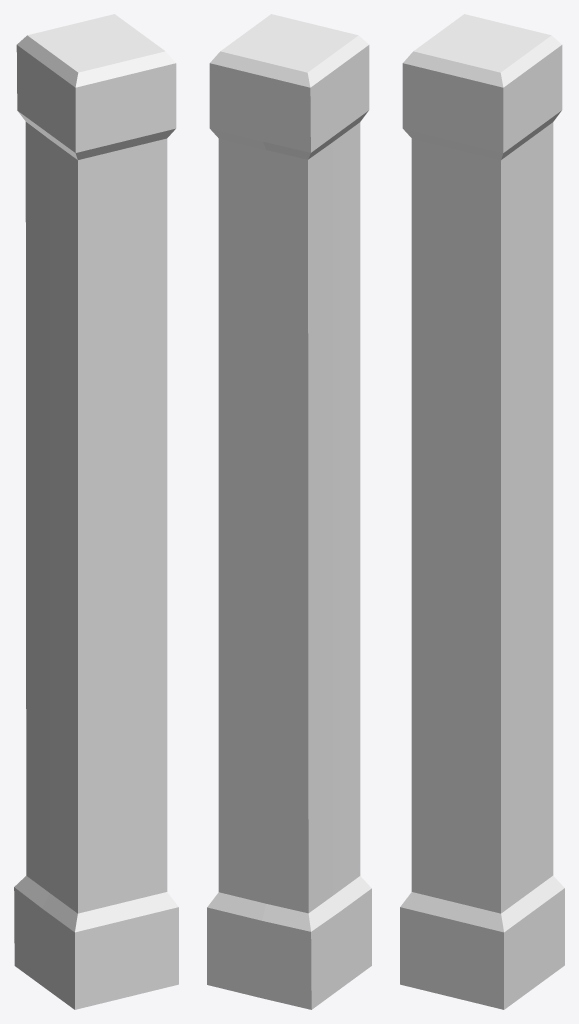
Rendered from g_o_BedroomWallCorner360.fbx.
The picture shows the model from 3 angles, left to right: view 1: azimuth 30°, elevation 25°; view 2: azimuth 150°, elevation 25°; view 3: azimuth 330°, elevation 25°; orthographic projection.
Visible parts, largest first — view 1: g_o_BedroomWallCorner360; view 2: g_o_BedroomWallCorner360; view 3: g_o_BedroomWallCorner360.
Boxes of the visible parts, x1,y1,x2,y2 form: g_o_BedroomWallCorner360: [14, 14, 178, 1009]; g_o_BedroomWallCorner360: [207, 14, 371, 1009]; g_o_BedroomWallCorner360: [400, 14, 564, 1009].
Size of the model in its own units: 0.2198 by 1.88 by 0.2223.
